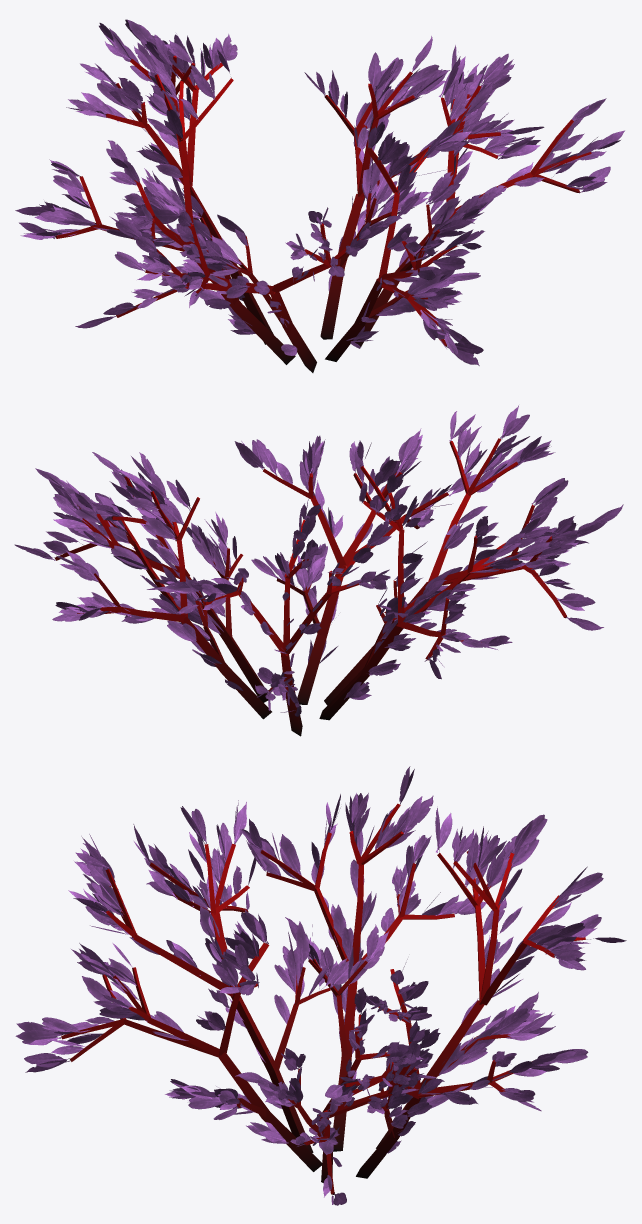
The model's file is heather_dwarf_v01_LOD1.fbx.
3 views of the same model, one above another, from view 1: azimuth 30°, elevation 25°; view 2: azimuth 150°, elevation 25°; view 3: azimuth 270°, elevation 25° (orthographic). The views are drawn at different scales.
Parts seen in each view (by area): view 1: heather_dwarf_v01_LOD1; view 2: heather_dwarf_v01_LOD1; view 3: heather_dwarf_v01_LOD1.
Part boxes in pixels (bbox=[...]): heather_dwarf_v01_LOD1: bbox=[15, 19, 624, 372]; heather_dwarf_v01_LOD1: bbox=[14, 405, 623, 736]; heather_dwarf_v01_LOD1: bbox=[15, 766, 626, 1205].
Bounding box in the file's own units: 57.62 × 30.6 × 50.83.
